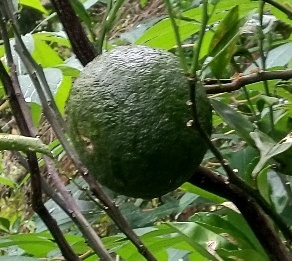Cam: (64, 40, 216, 201)
